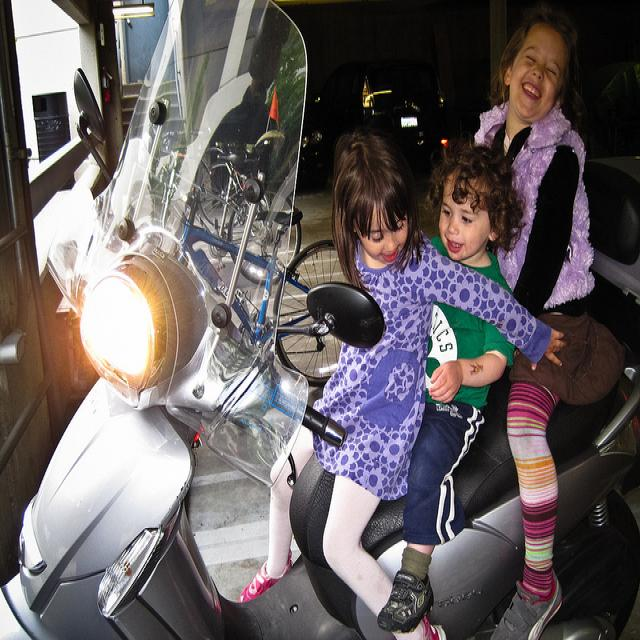motor: (0, 1, 640, 639)
